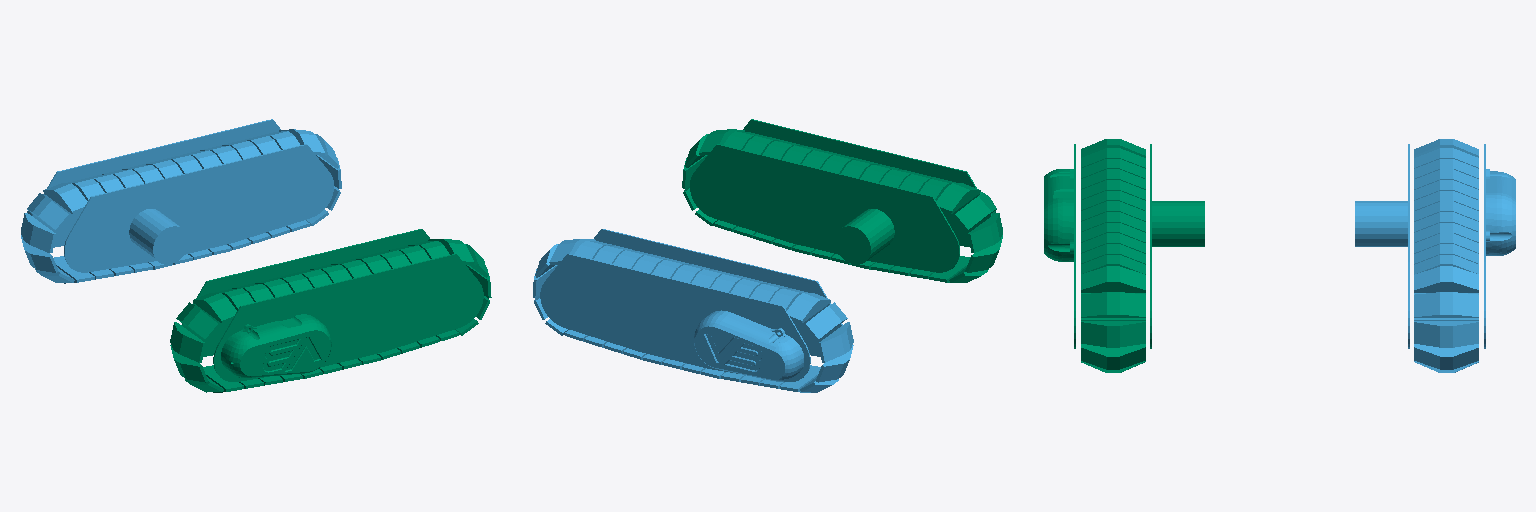
robot.urdf — tang:
<?xml version="1.0"?>
<robot name="tang">

  <link name="base_link">
    <visual>
      <geometry>
        <mesh filename="package://tang_description/base_link.obj" scale="0.001 0.001 0.001"/>
      </geometry>
    </visual>
  </link>

  <joint name="left_wheel_joint" type="continuous">
    <axis xyz="0 0 1"/>
    <parent link="base_link"/>
    <child link="left_wheel"/>
    <origin xyz="0 0.18 0" rpy="0.0 0.0 0.0"/>
  </joint>

  <link name="left_wheel">
    <visual>
      <geometry>
        <mesh filename="package://tang_description/CuGoV3_Left.obj" scale="0.001 0.001 0.001"/>
      </geometry>
    </visual>
  </link>

  <joint name="right_wheel_joint" type="continuous">
    <axis xyz="0 0 1"/>
    <parent link="base_link"/>
    <child link="right_wheel"/>
    <origin xyz="0 -0.18 0" rpy="0.0 0.0 0.0"/>
  </joint>

  <link name="right_wheel">
    <visual>
      <geometry>
        <mesh filename="package://tang_description/CuGoV3_Right.obj" scale="0.001 0.001 0.001"/>
      </geometry>
    </visual>
  </link>

</robot>

--- Facts derived from the render (not from the file) ---
Views: 3 orthographic renders of the robot side by side, from view 1: azimuth 30°, elevation 25°; view 2: azimuth 150°, elevation 25°; view 3: azimuth 270°, elevation 25°.
Robot: tang — 3 links, 2 joints (2 continuous); root link base_link; default pose: all joints at 0.
Visible links, largest first — view 1: left_wheel, right_wheel; view 2: right_wheel, left_wheel; view 3: right_wheel, left_wheel.
Link boxes in pixels (bbox=[...]): left_wheel: bbox=[21, 119, 341, 283]; right_wheel: bbox=[170, 229, 491, 392]; right_wheel: bbox=[682, 119, 1002, 282]; left_wheel: bbox=[533, 229, 853, 392]; right_wheel: bbox=[1044, 139, 1204, 372]; left_wheel: bbox=[1355, 139, 1515, 372].
Bounding box of the posed robot: 0.4301 × 0.508 × 0.1326 m (x, y, z).
2 mesh visuals loaded from 3 distinct referenced files (2 OBJ); not drawn: 1 (reference not matched to a file when rendering).
